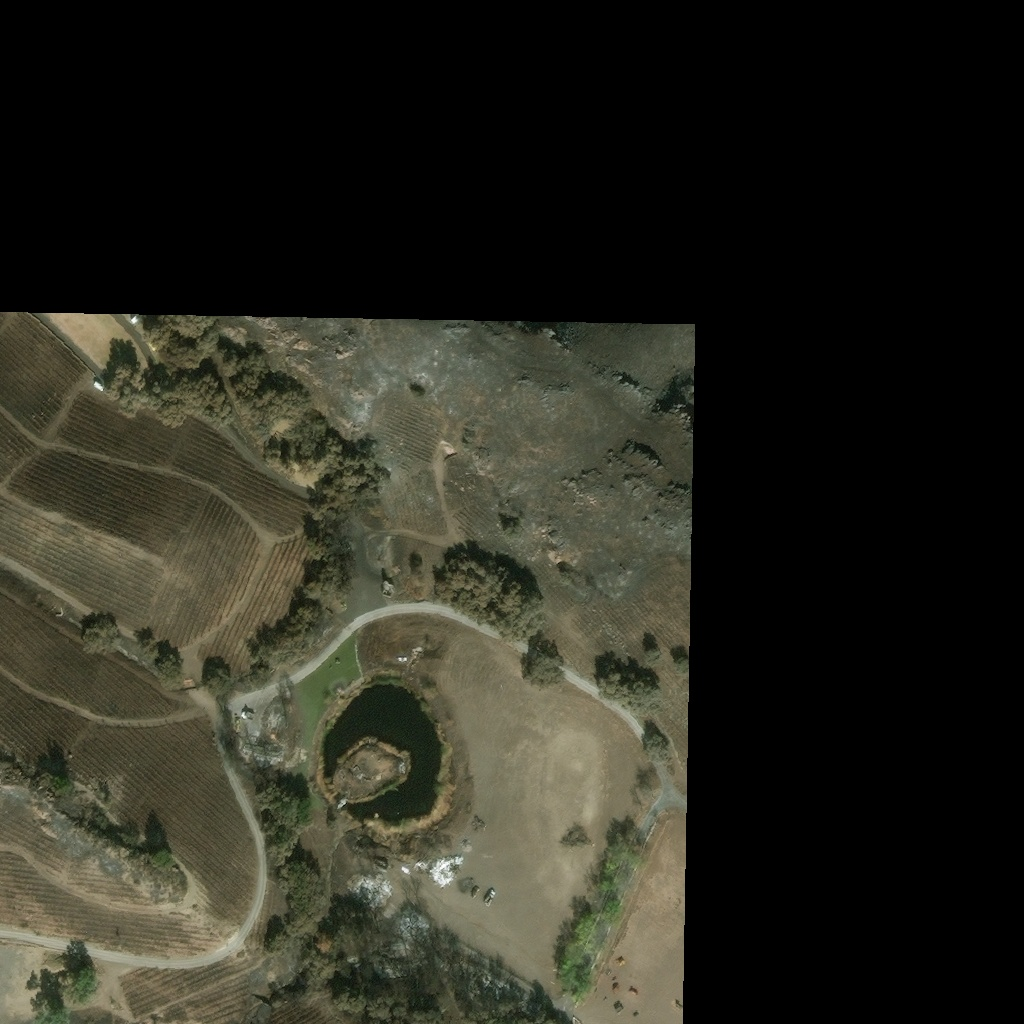0 no-damage: (94, 379, 105, 391), (130, 315, 138, 323)
2 major-damage: (380, 584, 395, 600)
3 destroyed: (239, 703, 284, 759), (300, 623, 338, 664), (398, 906, 437, 939), (352, 872, 386, 905), (374, 953, 394, 978), (349, 836, 370, 855), (352, 770, 367, 785), (367, 542, 383, 552), (355, 571, 362, 592)
